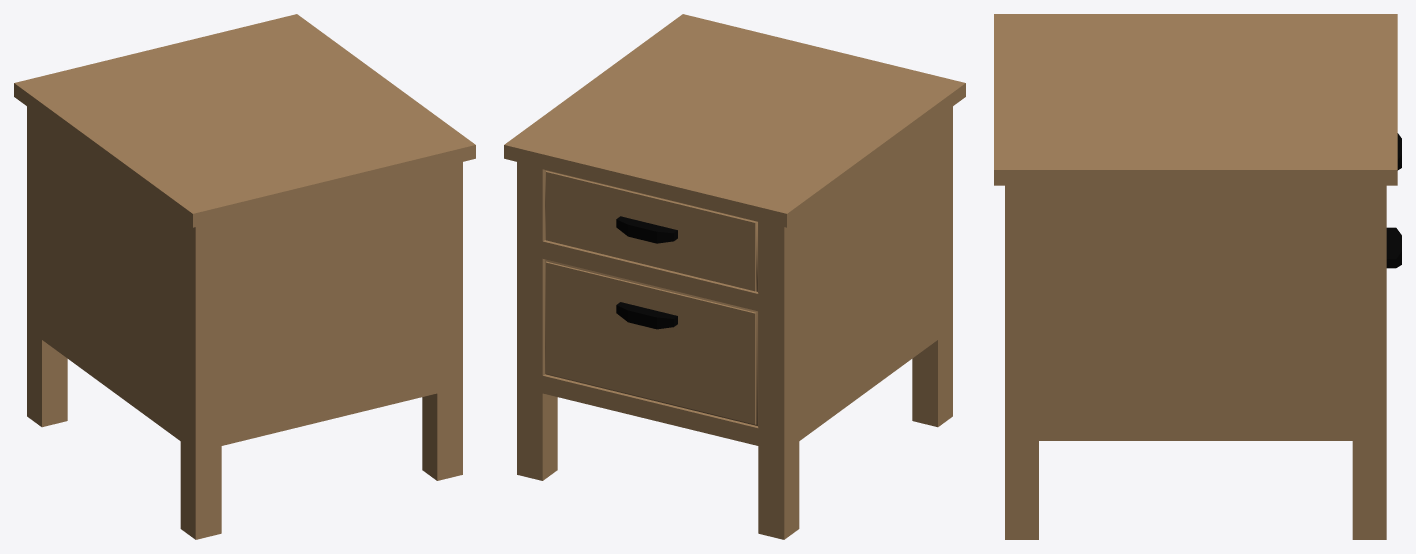
The model's file is smalldesk.fbx.
The picture shows the model from 3 angles, left to right: view 1: azimuth 30°, elevation 25°; view 2: azimuth 150°, elevation 25°; view 3: azimuth 270°, elevation 25°; orthographic projection. The views are drawn at different scales.
Parts seen in each view (by area): view 1: polySurface27; view 2: polySurface27; view 3: polySurface27.
Part boxes in pixels (box(x1,y1,x2,y2)): polySurface27: box(14, 14, 475, 539); polySurface27: box(504, 14, 965, 539); polySurface27: box(994, 14, 1401, 539).
Size of the model in its own units: 49.47 by 55.4 by 54.71.
